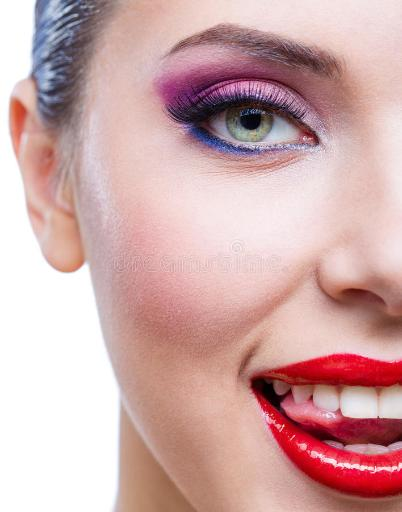right_eye: (190, 100, 319, 154)
right_lip_corner: (246, 370, 264, 403)
